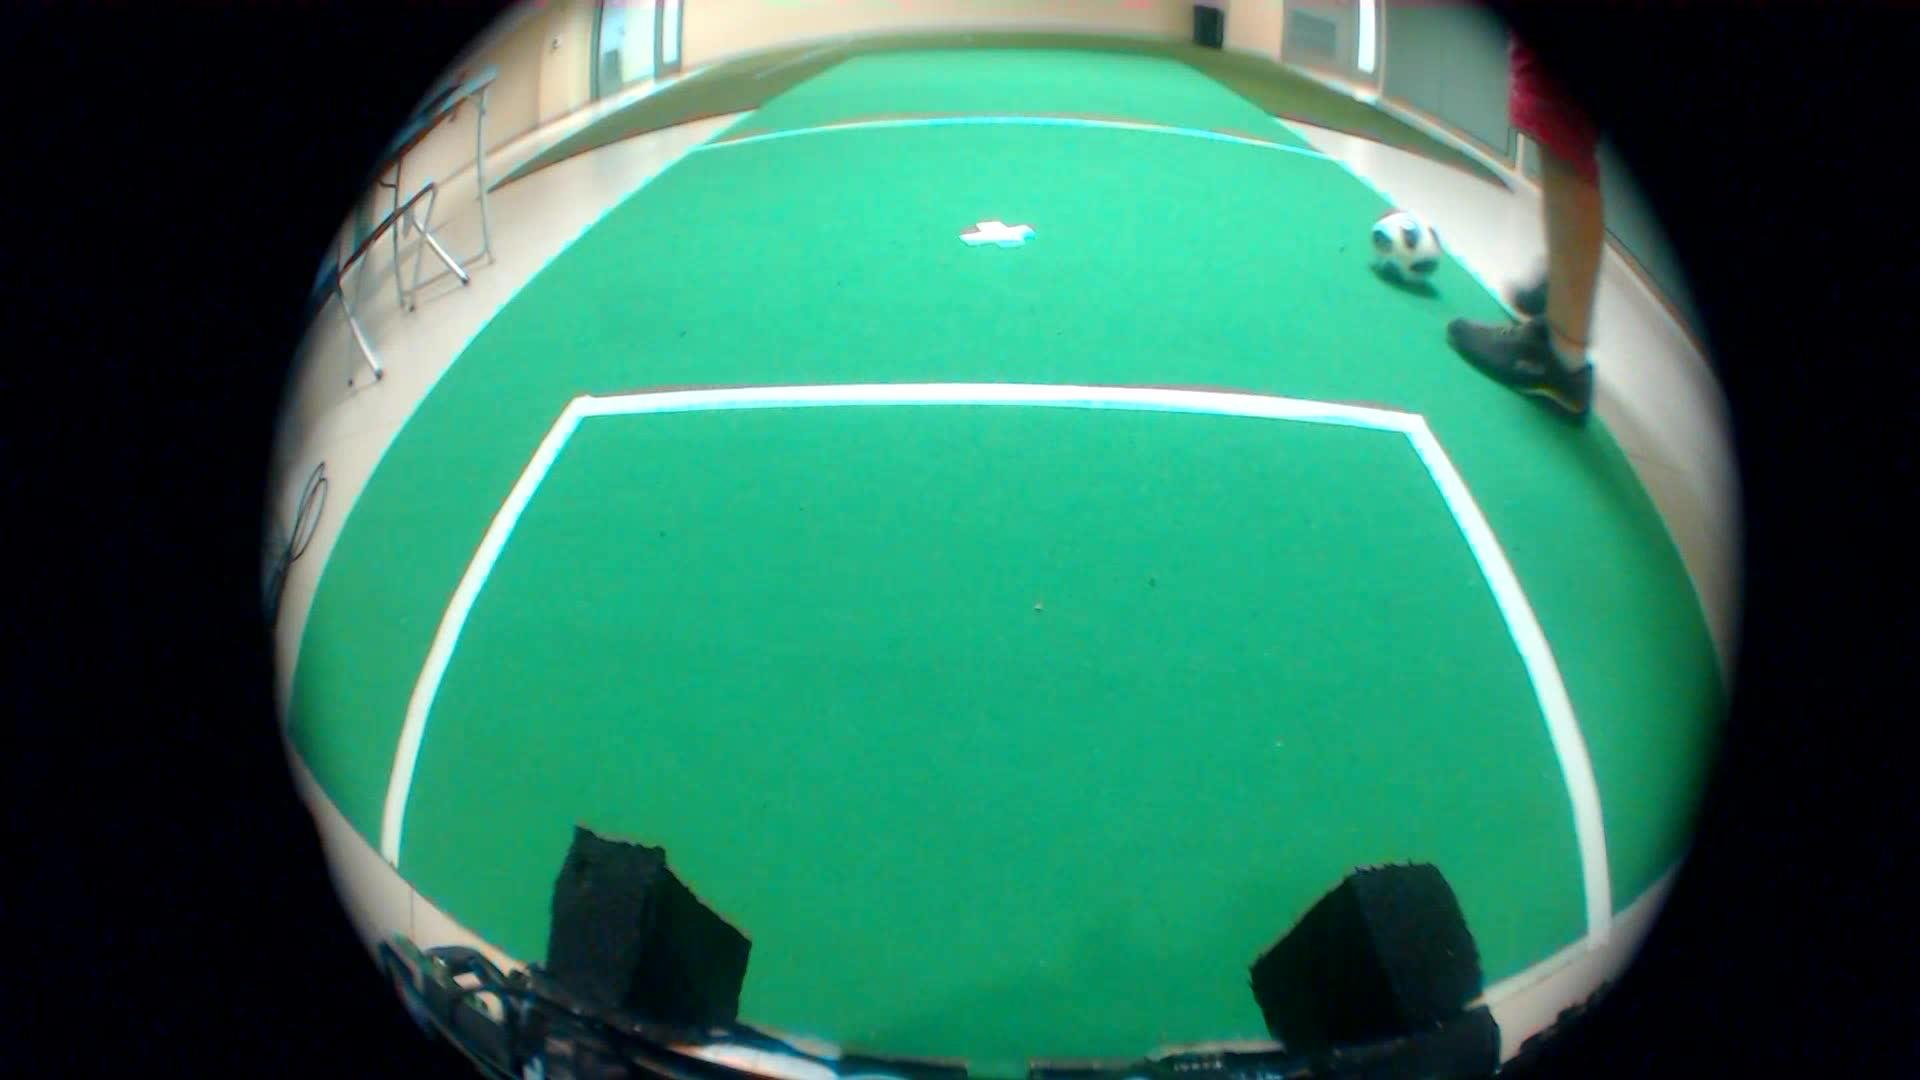ball: (1365, 193, 1443, 280)
